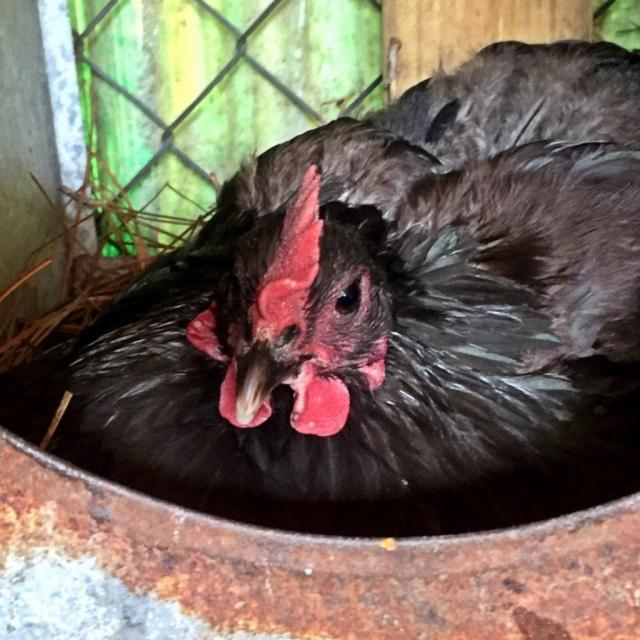Chicken: (0, 31, 639, 539)
